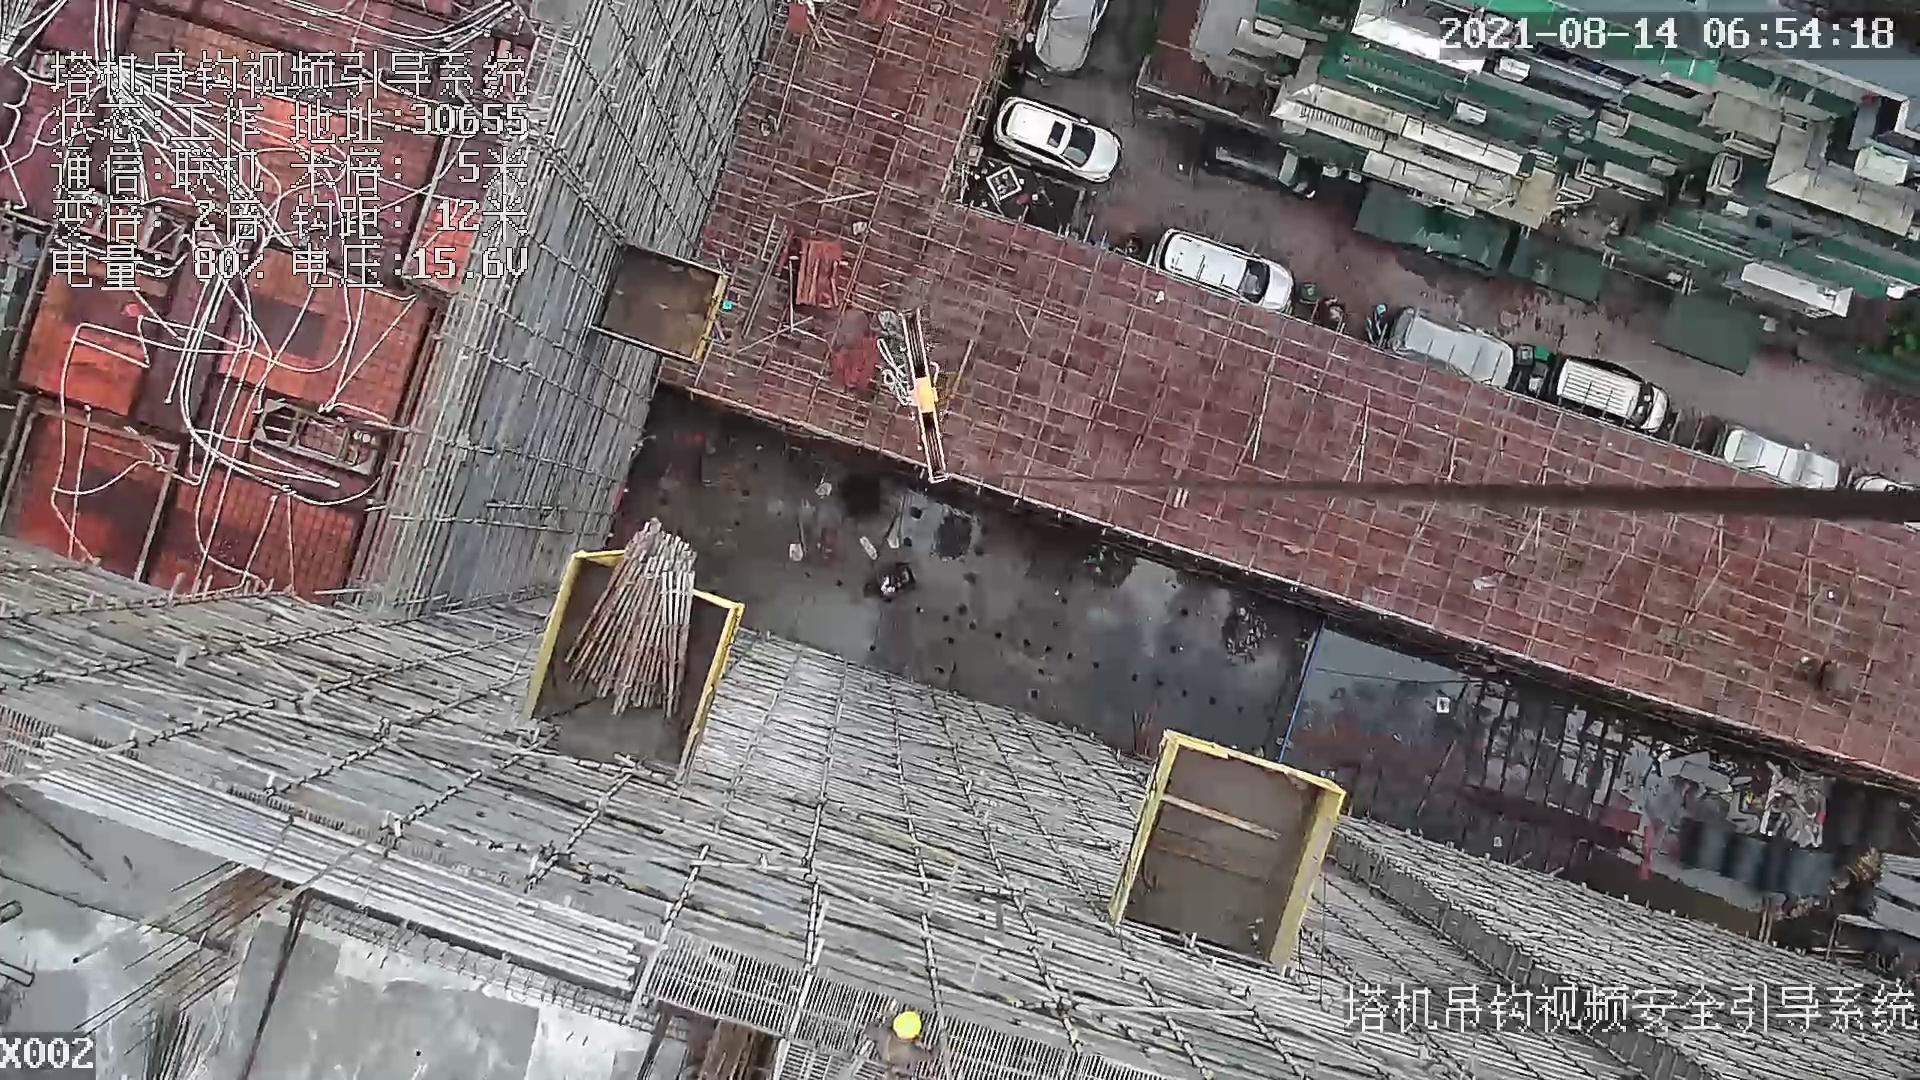helmet: (893, 1011, 921, 1039)
hook: (904, 305, 953, 496)
person: (869, 1010, 954, 1080)
rebar: (29, 734, 644, 995)
scaffold: (566, 519, 697, 717)
